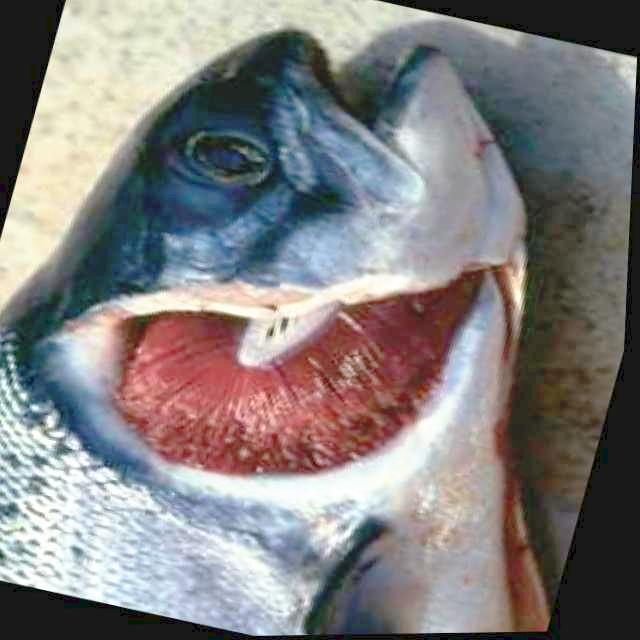Flavobacterium -Bacterial Gill Disease-: (0, 29, 547, 635), (0, 29, 545, 635)
